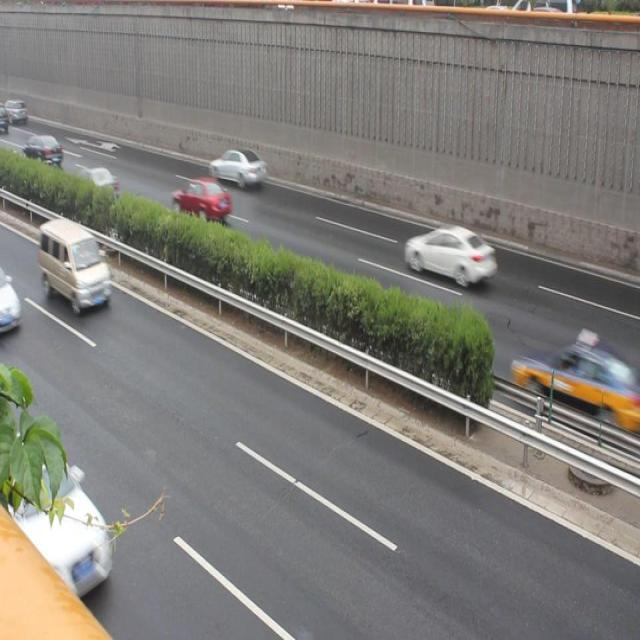car: (1, 432, 112, 592), (516, 338, 624, 422), (405, 222, 496, 286), (174, 176, 231, 226), (210, 146, 266, 192), (69, 167, 118, 209)
truck: (40, 222, 112, 309)
